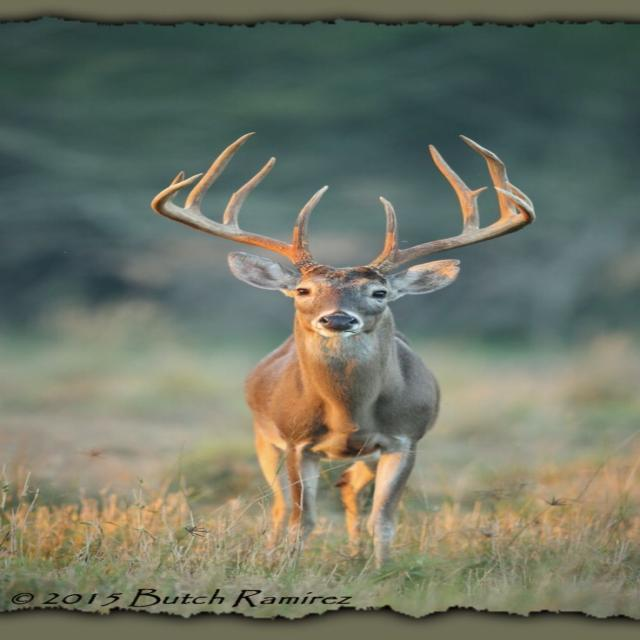E1: (468, 186, 489, 200)
L-F: (364, 186, 537, 276)
L-G1: (378, 196, 398, 253)
L-G2: (428, 144, 480, 233)
R-F: (151, 173, 327, 276)
R-G2: (223, 157, 277, 229), (292, 185, 330, 252)
R-G3: (184, 132, 258, 212)
